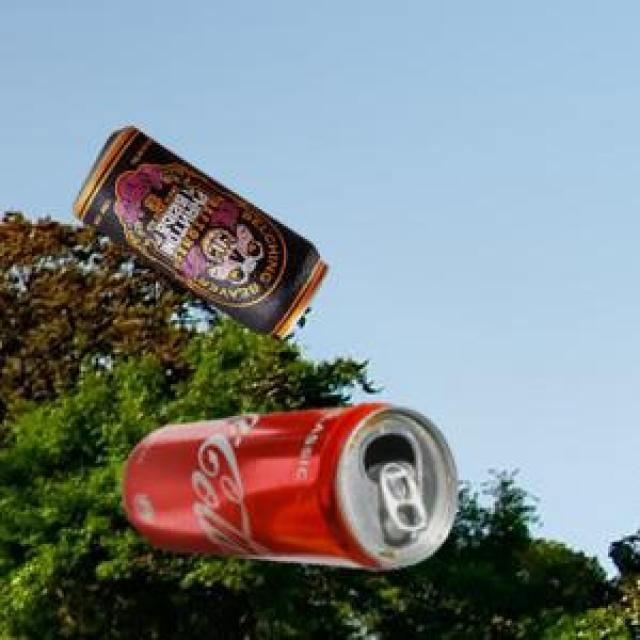Can: (118, 400, 455, 566), (69, 125, 325, 336)
